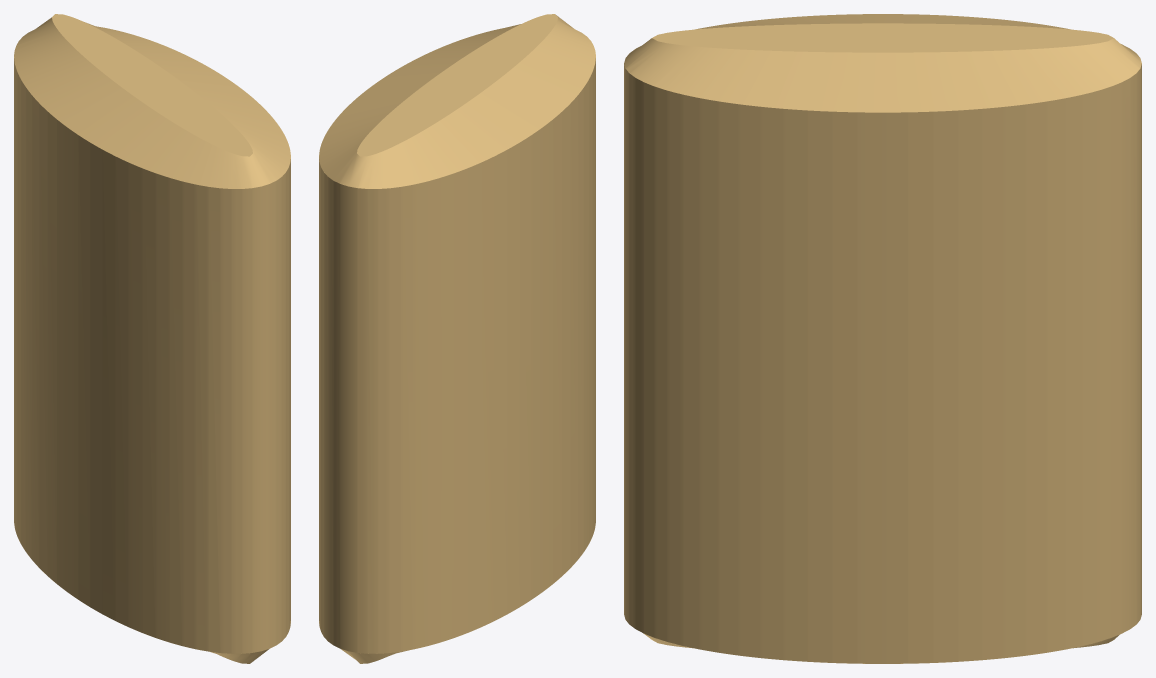
The picture shows the model from 3 angles, left to right: view 1: azimuth 30°, elevation 25°; view 2: azimuth 150°, elevation 25°; view 3: azimuth 270°, elevation 25°; orthographic projection. The views are drawn at different scales.
Parts seen in each view (by area): view 1: oval_column; view 2: oval_column; view 3: oval_column.
Boxes of the visible parts, x1=… form: oval_column: x1=14, y1=14, x2=290, y2=663; oval_column: x1=319, y1=14, x2=595, y2=663; oval_column: x1=624, y1=14, x2=1141, y2=663.
Size of the model in its own units: 0.0878 by 0.25 by 0.1949.
